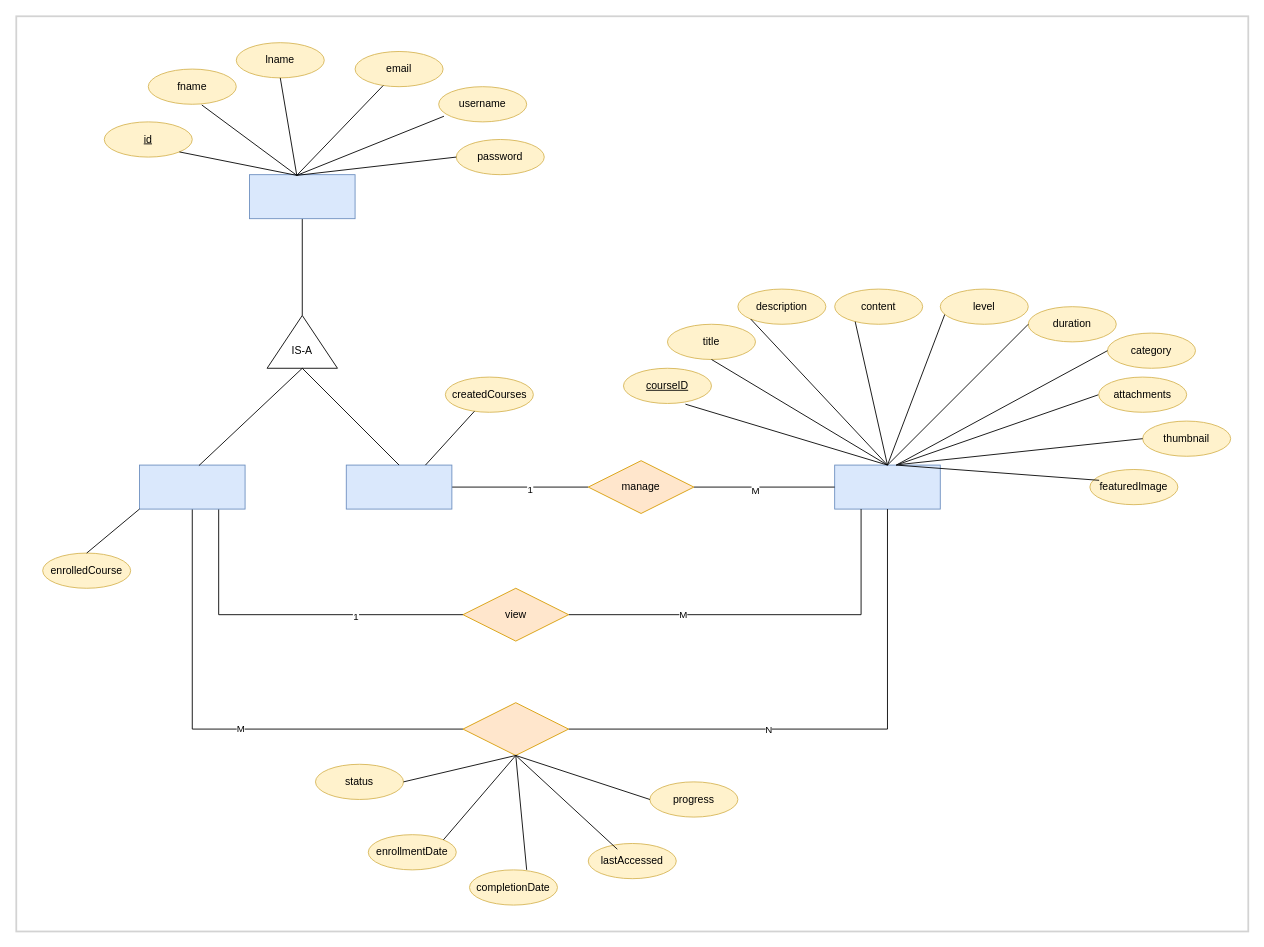
The diagram is 1264 pixels wide and 947 high, and some of its shapes have lost their labels. The centre of each missing label's shape, as x and y in pixels:
"Course" belongs at (887,486).
"enroll" belongs at (515,728).
"Instructor" belongs at (398,486).
"Student" belongs at (192,486).
"User" belongs at (302,196).
